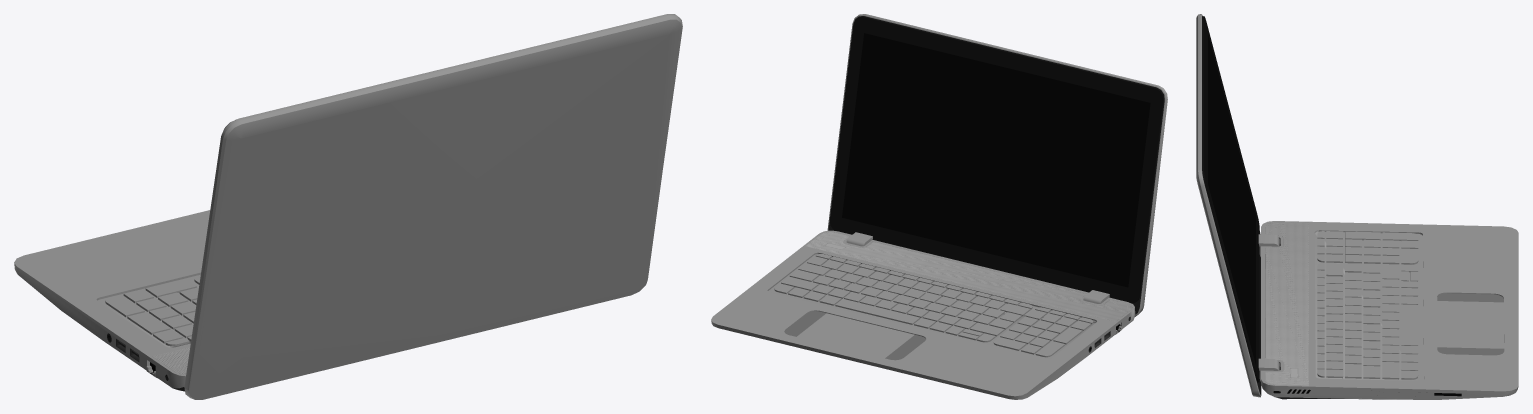
File: laptop2.obj
The picture shows the model from 3 angles, left to right: view 1: azimuth 30°, elevation 25°; view 2: azimuth 150°, elevation 25°; view 3: azimuth 270°, elevation 25°; orthographic projection. The views are drawn at different scales.
Parts seen in each view (by area): view 1: lid, case, keyboard; view 2: lid, case, keyboard; view 3: case, keyboard, lid.
Part boxes in pixels (left/top/right/bottom): lid: left=184, top=14, right=682, bottom=399; case: left=14, top=210, right=210, bottom=391; keyboard: left=105, top=275, right=200, bottom=346; lid: left=827, top=14, right=1167, bottom=316; case: left=711, top=230, right=1135, bottom=399; keyboard: left=774, top=254, right=1093, bottom=357; case: left=1261, top=221, right=1518, bottom=399; keyboard: left=1317, top=231, right=1418, bottom=379; lid: left=1196, top=14, right=1279, bottom=397.
Size of the model in its own units: 0.84 by 0.5443 by 0.6936.
